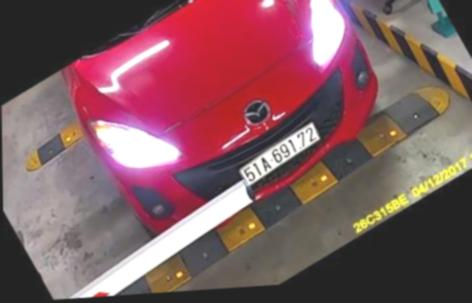License_Plate: (235, 120, 326, 189)
